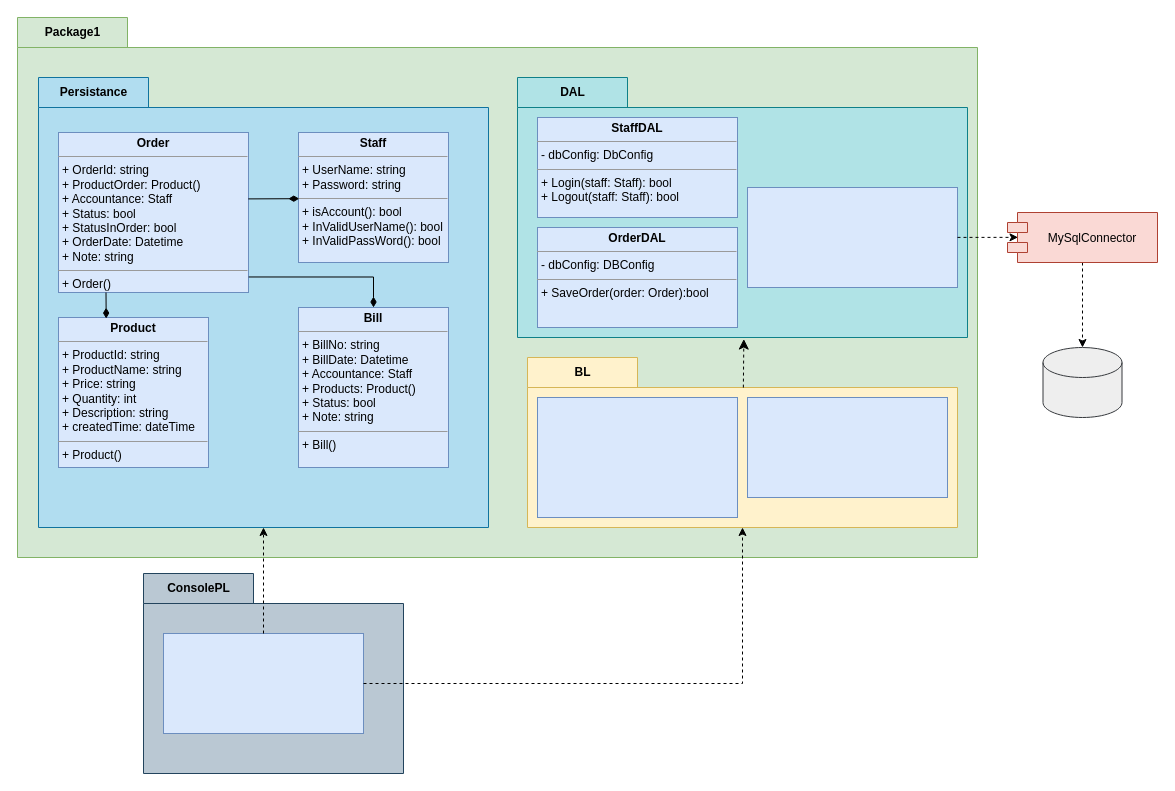
The diagram is 1175 pixels wide and 791 high, and some of its shapes have lost their labels. The shapes that lost their labels are listed below. From the top down, each one's centre as x and y in pixels, then its label:
At (x=852, y=237): "DbConfig - connection: MySqlConnection + GetConnection(): MySqlConnection".
At (x=1082, y=382): "MySQL".
At (x=637, y=457): "StaffBL - dal: StaffDAL + Login(staff: Staff): bool + Logout(staff: Staff): bool".
At (x=847, y=447): "OrderBL - orderDal: OrderDAL + CreateOrder(order: Order): bool".
At (x=263, y=683): "Program + main(args: string[]): void".
